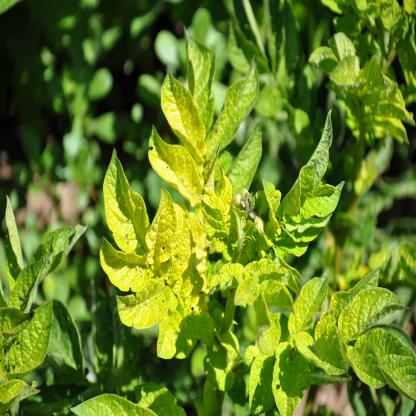tomato leaf yellow virus: (92, 153, 153, 247), (0, 289, 57, 389), (212, 53, 266, 150), (282, 262, 331, 368), (233, 252, 304, 325), (333, 282, 406, 351), (158, 70, 211, 160), (145, 130, 201, 212), (288, 171, 348, 232), (147, 180, 179, 275)
